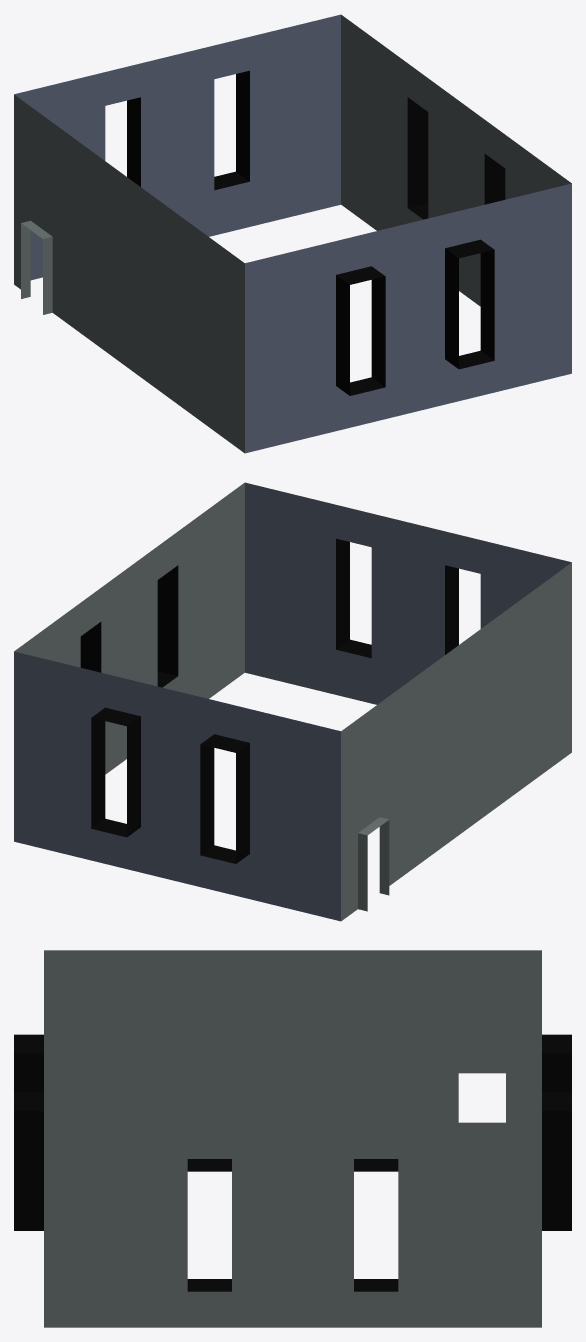
The model's file is operating_theatre_walls.fbx.
3 renders of one model, top to bottom at view 1: azimuth 30°, elevation 25°; view 2: azimuth 150°, elevation 25°; view 3: azimuth 270°, elevation 25°, orthographic. The views are drawn at different scales.
Parts seen in each view (by area): view 1: walls; view 2: walls; view 3: walls.
Part boxes in pixels (x1,y1,x2,y2): walls: [14, 14, 571, 453]; walls: [14, 482, 571, 921]; walls: [14, 950, 571, 1327].
Bounding box in the file's own units: 993 × 500 × 1232.
